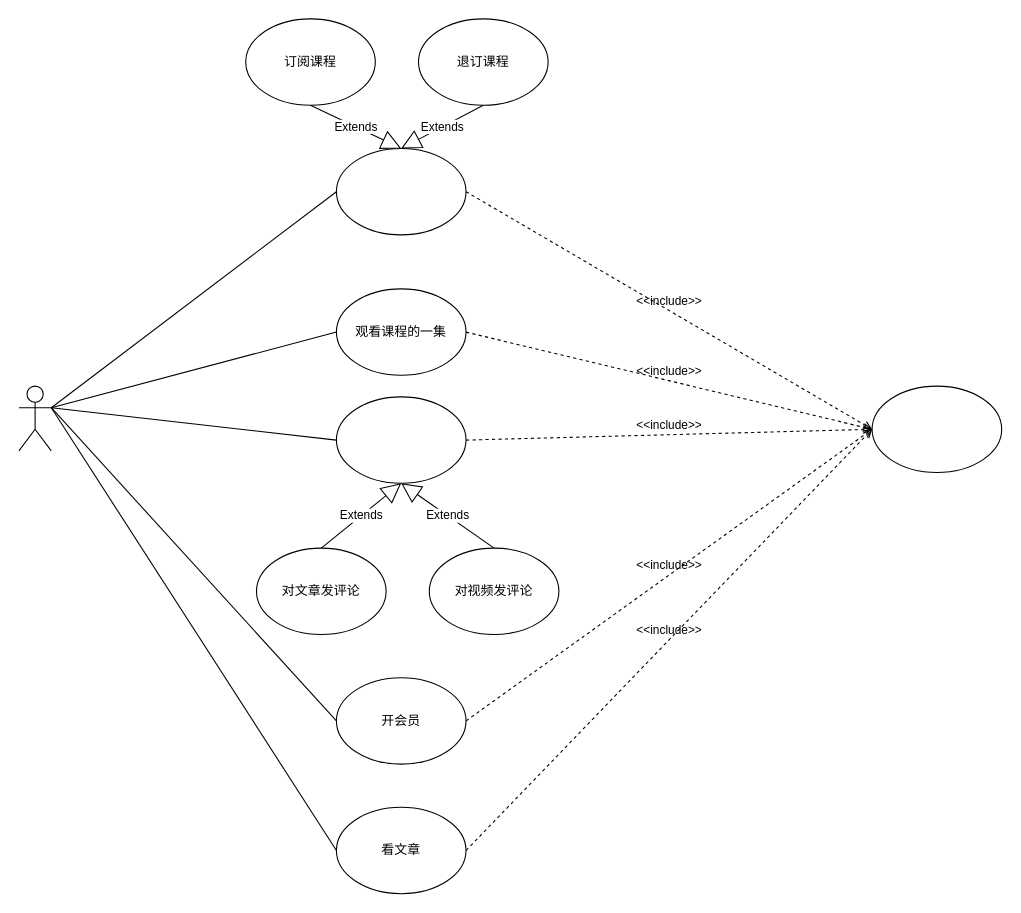
Image size: 1021x913. Some labels were removed from this diagram. The shapes that lost their labels are listed below. From the top down, each one's box as (x1, y1, x2, y2) in pixels, then its label:
(335, 147, 466, 235): 课程操作
(18, 385, 51, 451): 学生
(871, 385, 1002, 473): 登录
(335, 396, 466, 483): 发评论
